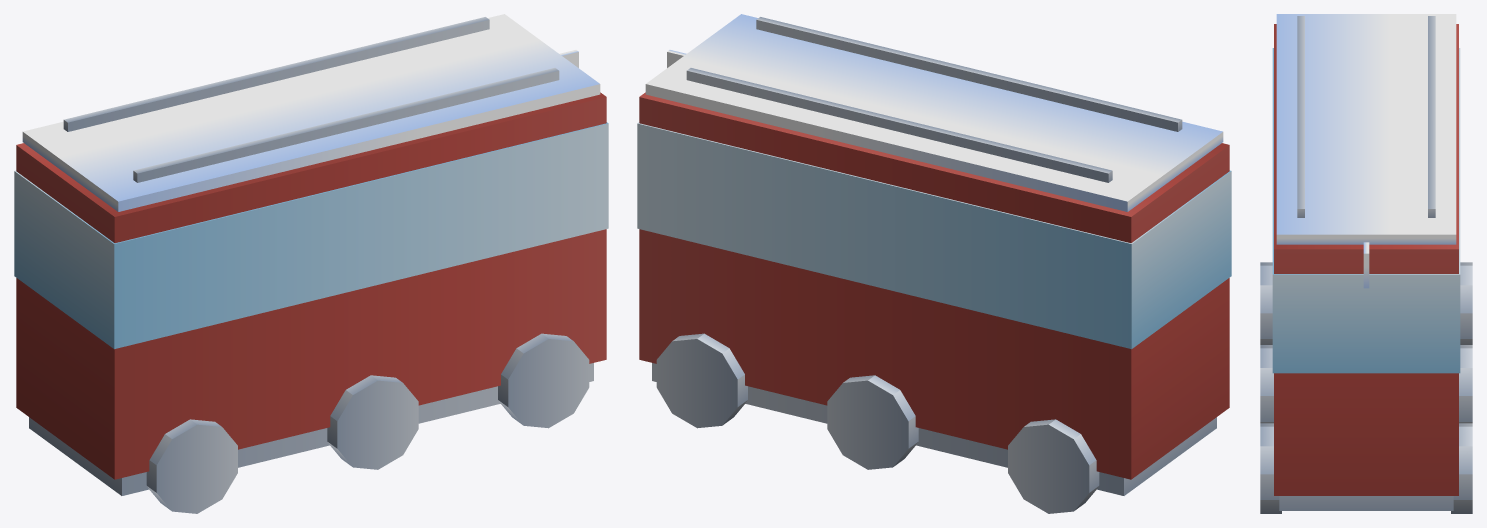
File: bus.fbx
3 views of the same model, side by side, from view 1: azimuth 30°, elevation 25°; view 2: azimuth 150°, elevation 25°; view 3: azimuth 270°, elevation 25° (orthographic). The views are drawn at different scales.
Visible parts, largest first — view 1: bus; view 2: bus; view 3: bus.
Boxes of the visible parts, x1,y1,x2,y2 form: bus: (14,14,608,513); bus: (637,14,1231,513); bus: (1260,14,1472,513).
Size of the model in its own units: 2500 by 1562 by 954.
